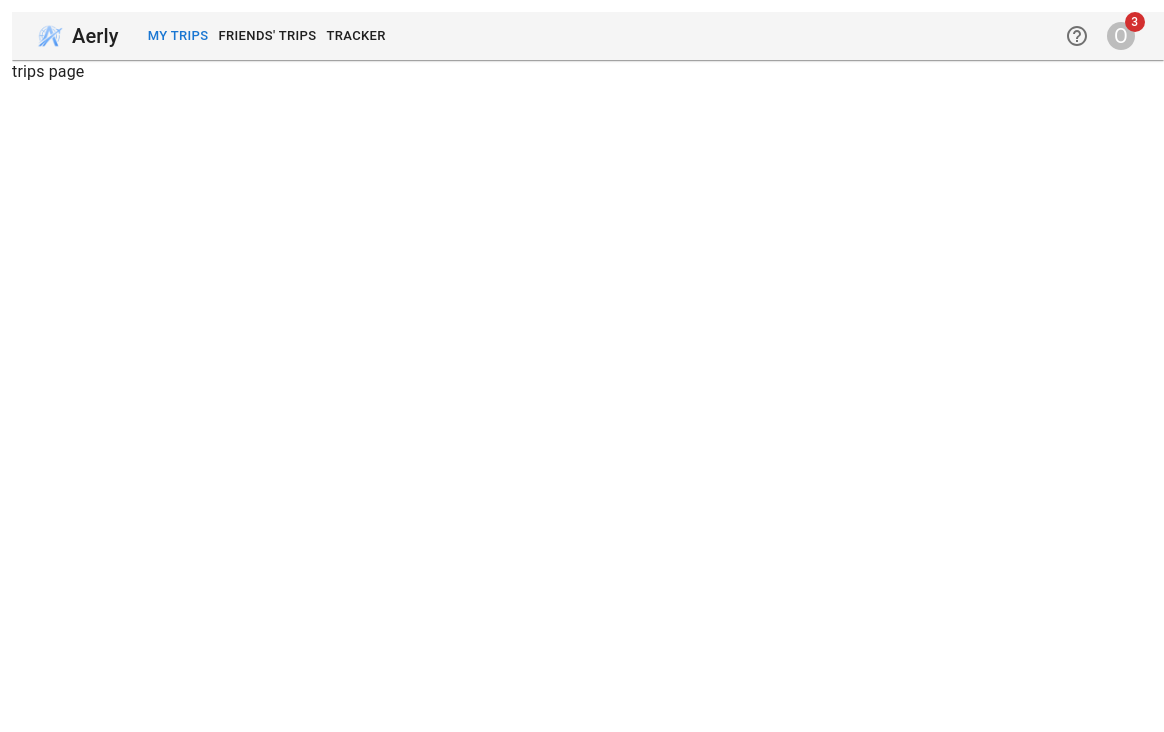
Scenario: Layout › shows a count chip on the Alerts item for unread alerts + shares
Click the button named "account menu".
click(1121, 36)  # box x1=1102 y1=17 x2=1140 y2=55
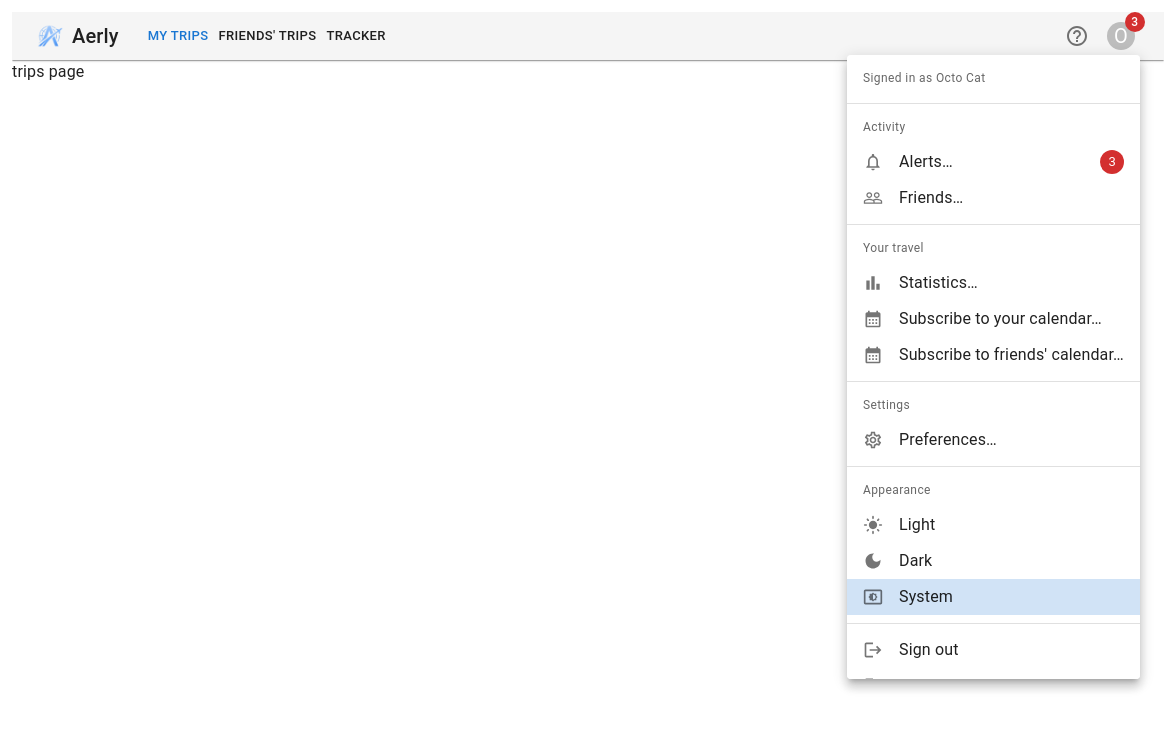
Result: the menu item "Alerts… 3" is shown at x1=847 y1=144 x2=1140 y2=180
